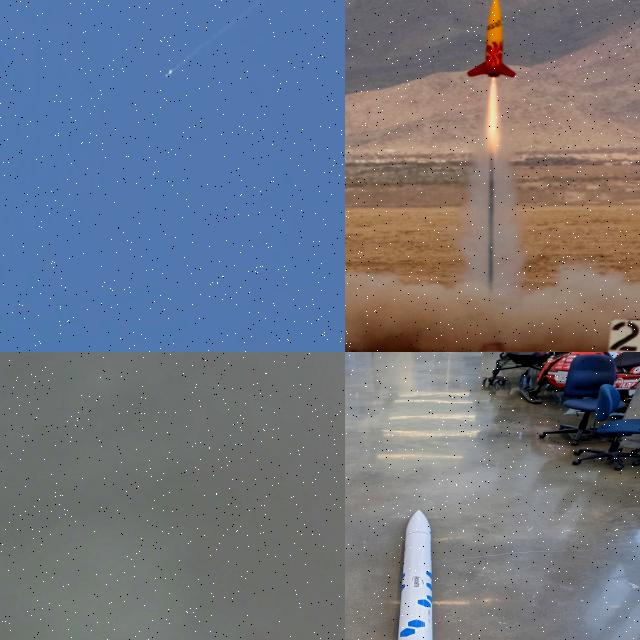Rocket: (398, 509, 433, 640), (466, 0, 517, 78), (166, 69, 172, 77)
